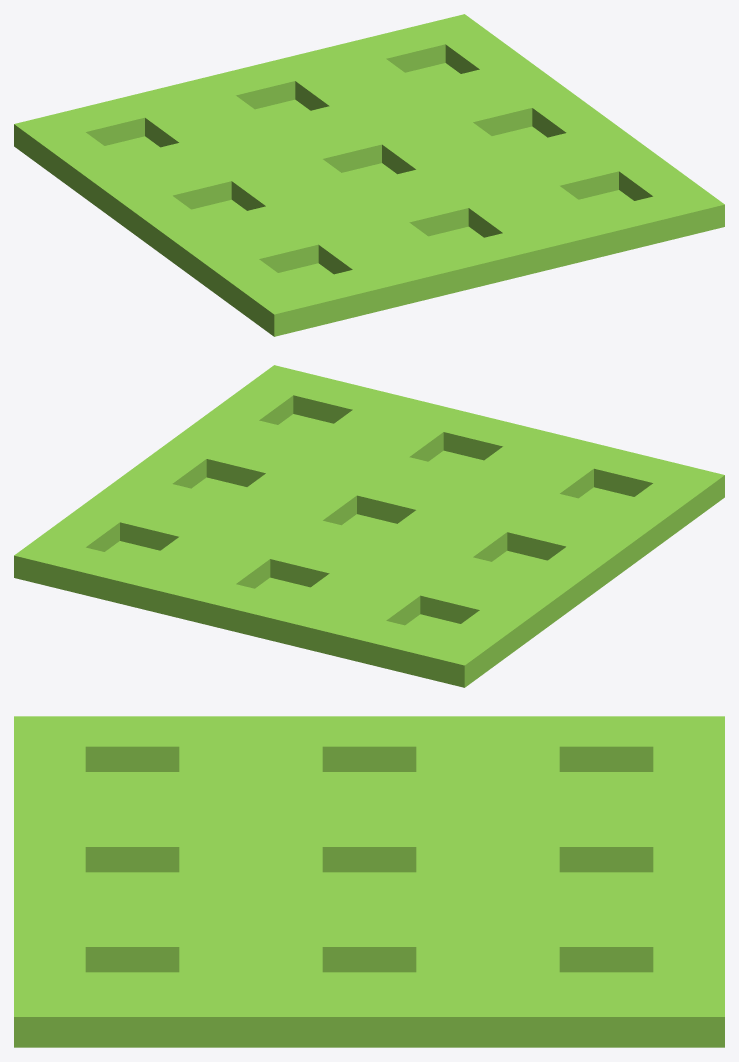
Rendered from map1.fbx.
3 views of the same model, one above another, from view 1: azimuth 30°, elevation 25°; view 2: azimuth 150°, elevation 25°; view 3: azimuth 270°, elevation 25° (orthographic). The views are drawn at different scales.
Parts seen in each view (by area): view 1: Cube.008, Cube.005, Cube.003, Cube.009, Cube.010, Cube.006, Cube.007, Cube, Cube.004; view 2: Cube.010, Cube.007, Cube.004, Cube.009, Cube.008, Cube.006, Cube.005, Cube, Cube.003; view 3: Cube.005, Cube.006, Cube.007, Cube, Cube.003, Cube.004, Cube.008, Cube.009, Cube.010.
Boxes of the visible parts, x1=… form: Cube.008: x1=187, y1=214, x2=424, y2=336; Cube.005: x1=488, y1=141, x2=724, y2=263; Cube.003: x1=338, y1=178, x2=574, y2=300; Cube.009: x1=100, y1=151, x2=337, y2=272; Cube.010: x1=14, y1=87, x2=250, y2=209; Cube.006: x1=401, y1=77, x2=637, y2=177; Cube.007: x1=315, y1=14, x2=550, y2=114; Cube: x1=251, y1=114, x2=487, y2=214; Cube.004: x1=164, y1=50, x2=400, y2=150; Cube.010: x1=314, y1=565, x2=551, y2=687; Cube.007: x1=14, y1=492, x2=250, y2=614; Cube.004: x1=164, y1=529, x2=400, y2=651; Cube.009: x1=401, y1=502, x2=638, y2=623; Cube.008: x1=488, y1=438, x2=724, y2=560; Cube.006: x1=101, y1=428, x2=337, y2=528; Cube.005: x1=188, y1=365, x2=423, y2=465; Cube: x1=251, y1=465, x2=487, y2=565; Cube.003: x1=338, y1=401, x2=574, y2=501; Cube.005: x1=14, y1=916, x2=250, y2=1047; Cube.006: x1=251, y1=916, x2=487, y2=1047; Cube.007: x1=488, y1=916, x2=724, y2=1047; Cube: x1=251, y1=816, x2=487, y2=916; Cube.003: x1=14, y1=816, x2=250, y2=916; Cube.004: x1=488, y1=816, x2=724, y2=916; Cube.008: x1=14, y1=716, x2=250, y2=816; Cube.009: x1=251, y1=716, x2=487, y2=816; Cube.010: x1=488, y1=716, x2=724, y2=816.
Bounding box in the file's own units: 2793 × 132 × 2793.
